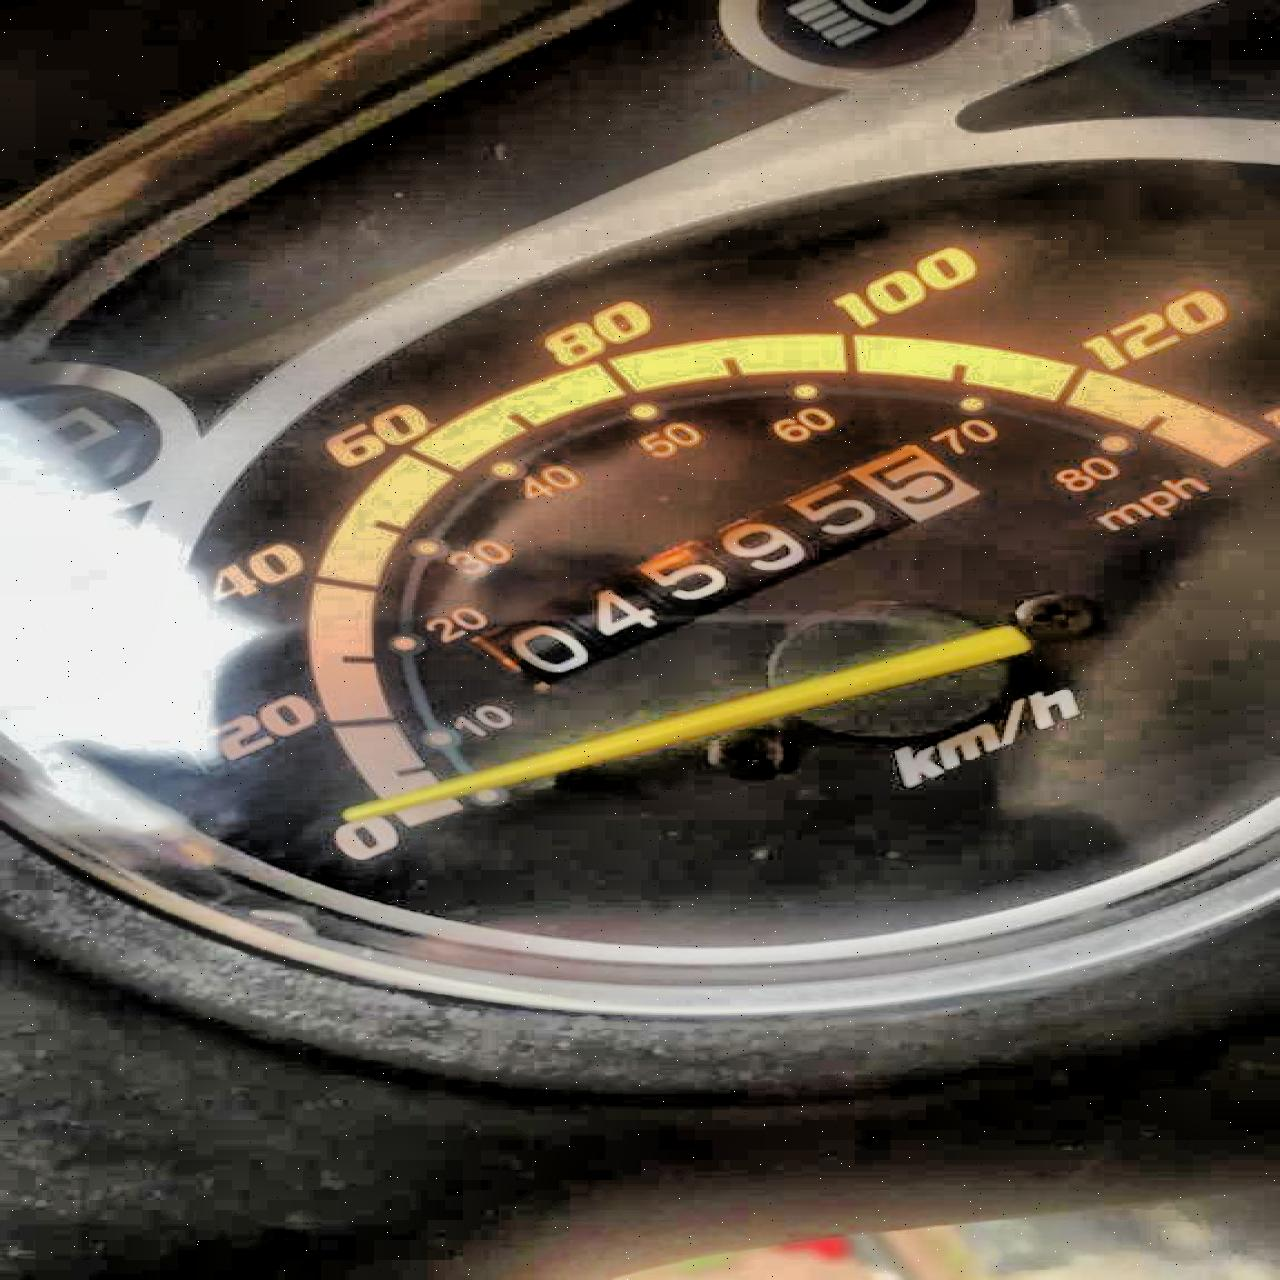0: (503, 626, 592, 673), (539, 463, 581, 489), (468, 539, 515, 561), (450, 605, 483, 629)
3: (445, 550, 488, 576)
4: (579, 585, 663, 636), (512, 472, 550, 503)
5: (622, 544, 730, 599), (862, 451, 961, 506), (777, 481, 874, 535), (634, 431, 676, 459)
9: (715, 520, 810, 570)
odometer: (458, 440, 1015, 695)
